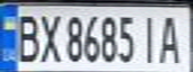5: (115, 11, 139, 63)
6: (81, 11, 100, 63)
8: (100, 11, 121, 63), (63, 11, 84, 63)
A: (154, 11, 187, 65)
B: (9, 10, 42, 63)
I: (136, 11, 163, 64)
X: (36, 9, 60, 63)
